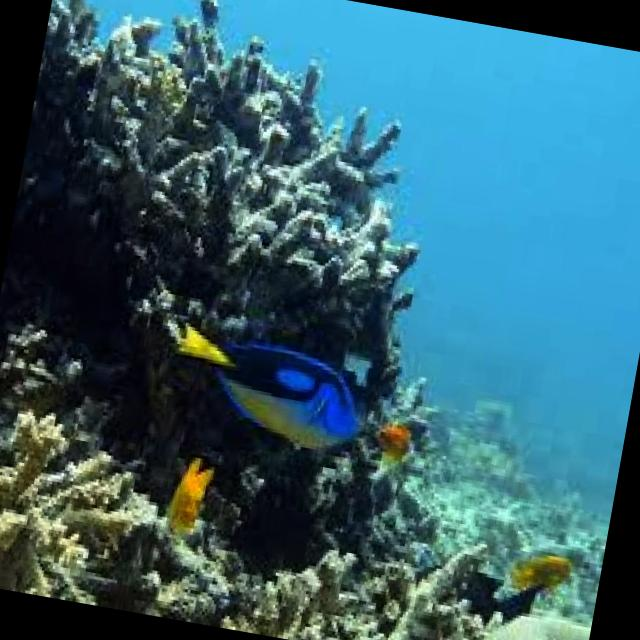TangFish: (158, 314, 381, 461)
